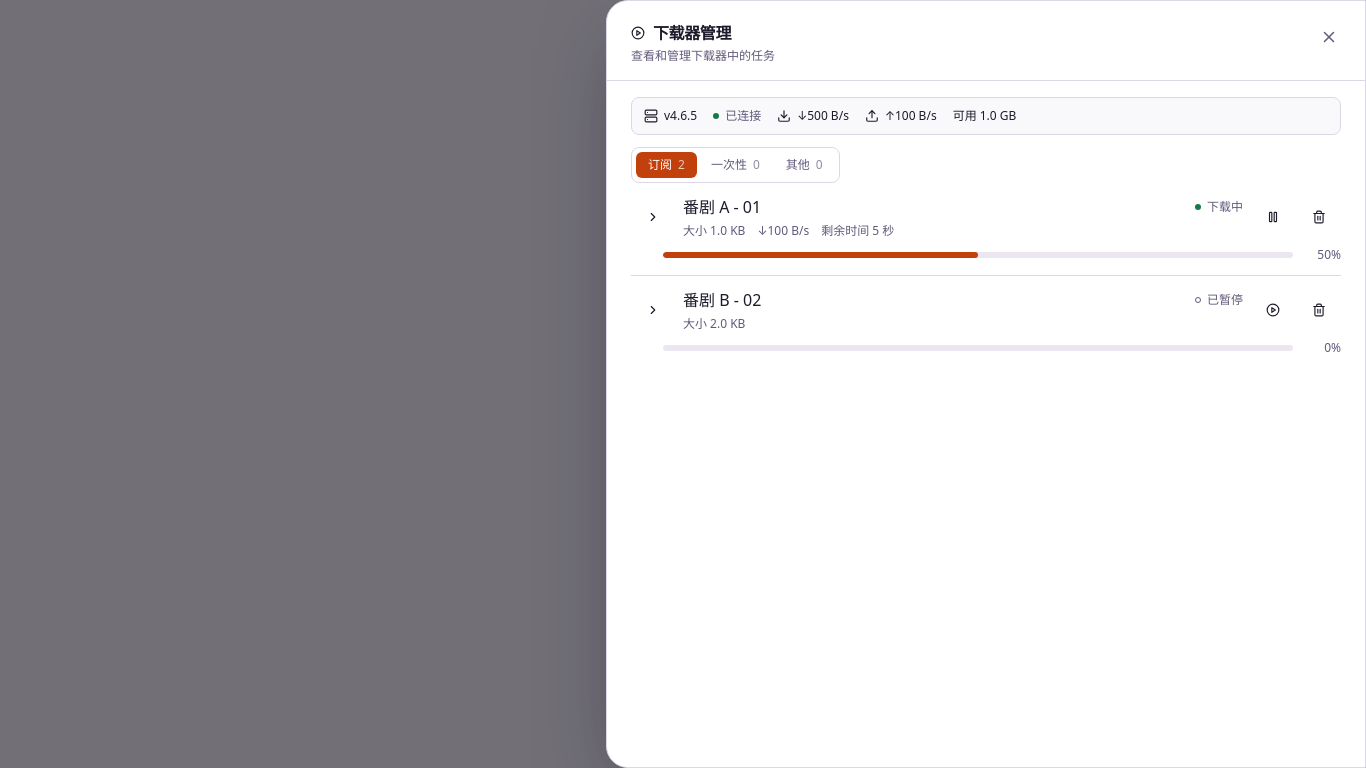
it: QBManagerDialog › 删除时被占用（409）提示原因并刷新为禁用状态
This screenshot has width=1366, height=768.
Click the button named "删除任务 番剧 A - 01": (1319, 217) [1297,195,1341,239]
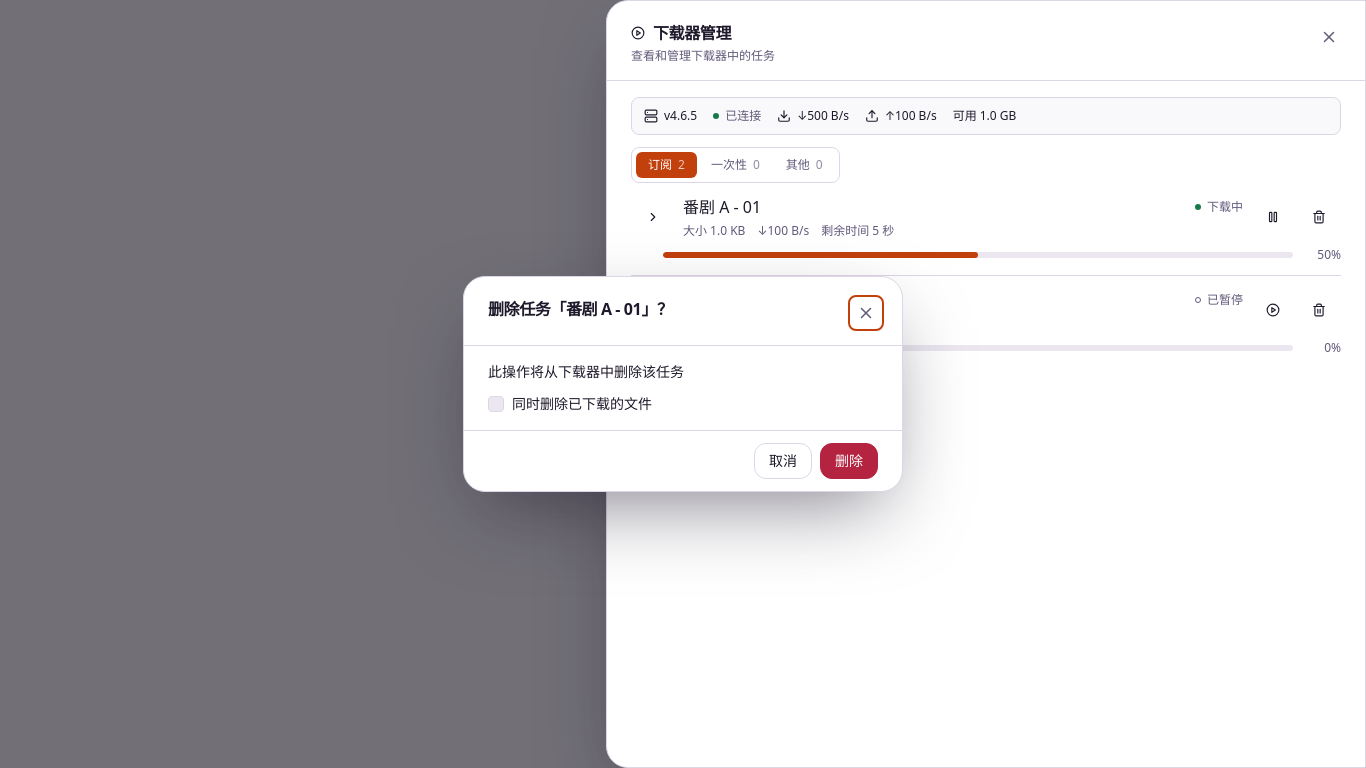
Click the button "删除": (849, 461) [820,443,878,479]
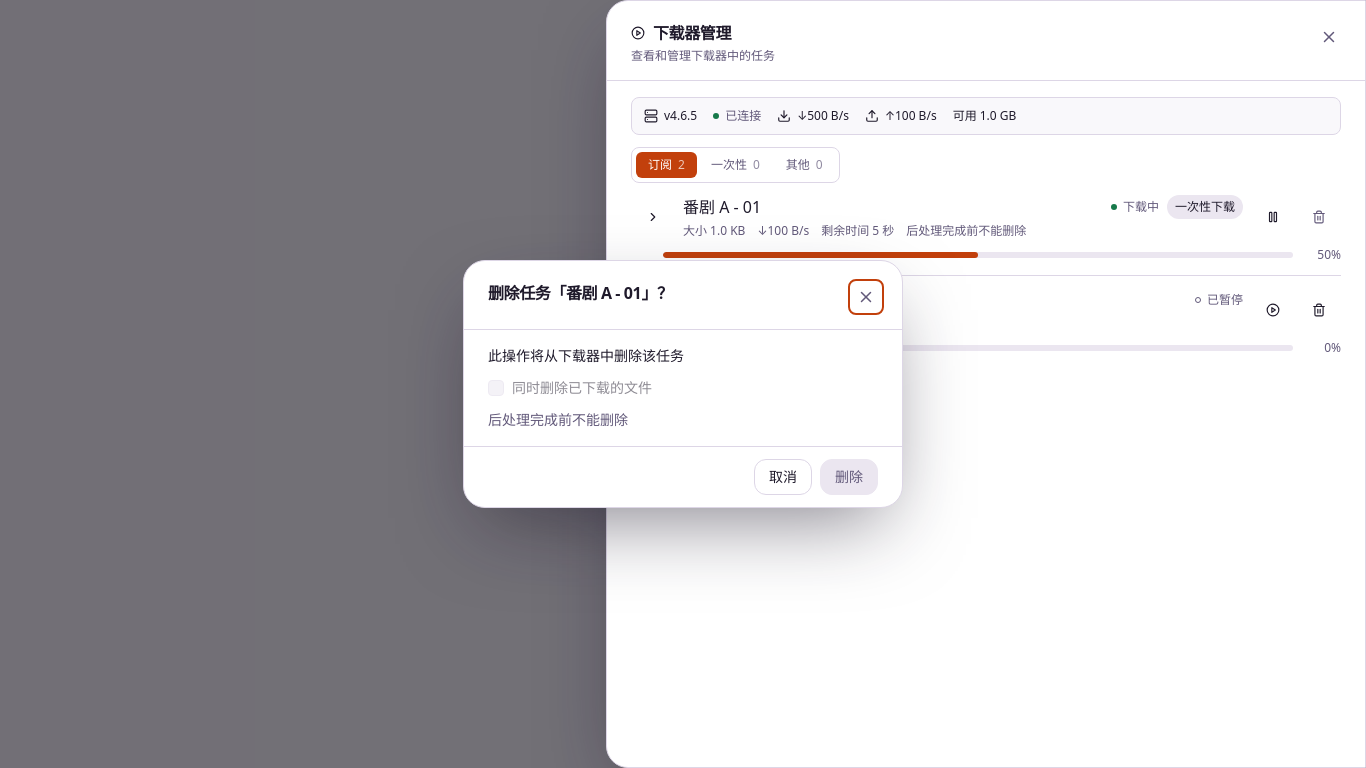
Now the text "一次性下载" is shown, box [1167,195,1243,219]
